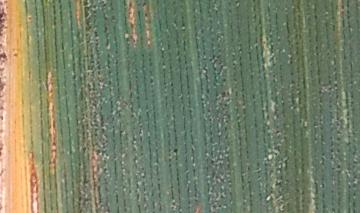tarspot: (172, 144, 180, 157)
